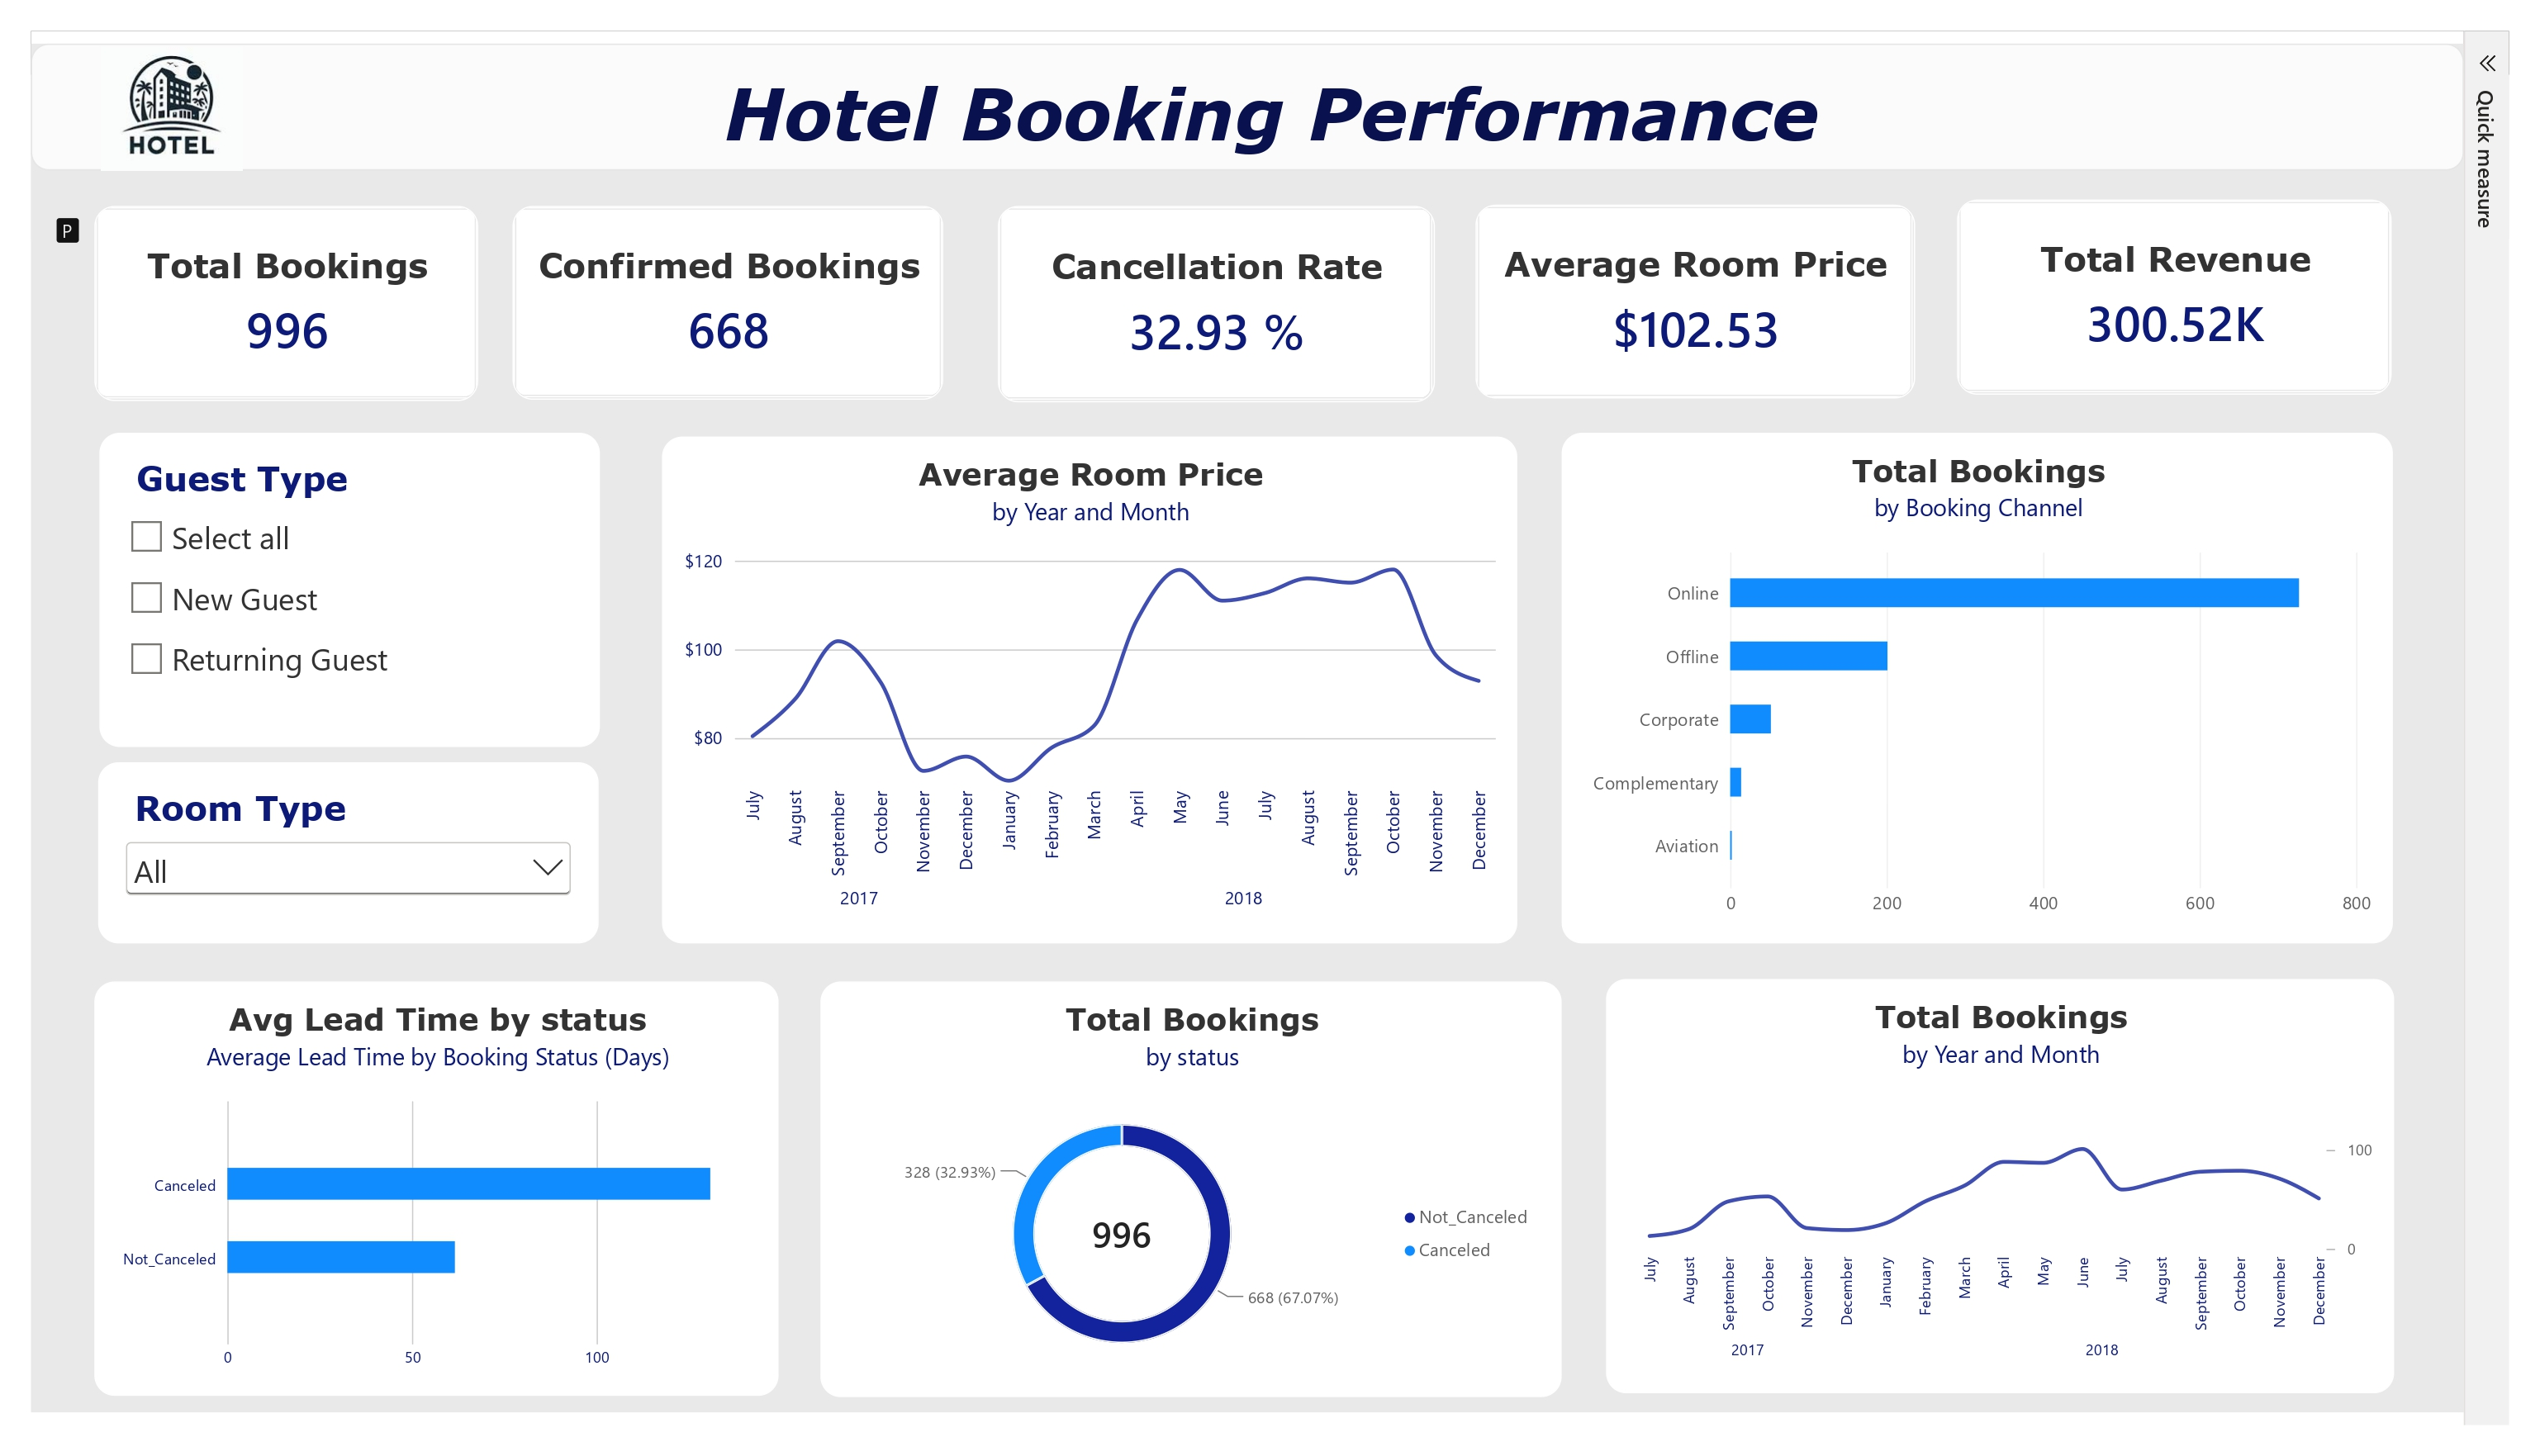

Layout of this report page (visuals, bound fields, positions):
{"tool":"powerbi","page":{"name":"Page ١","canvas":[1920,1080],"ordinal":0},"visuals":[{"type":"cardVisual","fields":{"Data":["Table3.Total Bookings"]},"box":[50,128.3,303.3,153.3],"z":0},{"type":"cardVisual","fields":{"Data":["Table3.Average Room Price"]},"box":[1140,126.7,346.7,153.3],"z":1000},{"type":"cardVisual","fields":{"Data":["Table3.Total Revenue"]},"box":[1520,123.3,343.3,153.3],"z":2000},{"type":"cardVisual","fields":{"Data":["Table3.Confirmed Bookings"]},"box":[380,128.3,340,152.9],"z":3000},{"type":"cardVisual","fields":{"Data":["Table3.Cancellation Rate"]},"box":[763.3,128.3,344.3,154.3],"z":4000},{"type":"lineChart","fields":{"Category":["Table3.arrival_date.Variation.Date Hierarchy.Year","Table3.arrival_date.Variation.Date Hierarchy.Month"],"Y2":["Table3.Total Bookings"]},"box":[1242.5,737.5,622.5,327.5],"z":5000},{"type":"donutChart","fields":{"Category":["Table3.status"],"Y":["Table3.Total Bookings"]},"box":[622.5,740,585,327.5],"z":6000},{"type":"clusteredBarChart","title":"Total Bookings","fields":{"Category":["Table3.market_segment"],"Y":["Table3.Total Bookings"]},"box":[1207.8,306.7,656.7,403.3],"z":7000},{"type":"clusteredBarChart","fields":{"Category":["Table3.status"],"Y":["Table3.Avg Lead Time"]},"box":[50,740,540,326.7],"z":8000},{"type":"slicer","fields":{"Values":["Table3.Room Category"]},"box":[53.3,566.7,394.4,143.4],"z":9000},{"type":"slicer","fields":{"Values":["Table3.Guest Type"]},"box":[54.4,306.7,394.4,248],"z":10000},{"type":"textbox","box":[0,0,1920,100],"z":11000},{"type":"lineChart","fields":{"Category":["Table3.arrival_date.Variation.Date Hierarchy.Year","Table3.arrival_date.Variation.Date Hierarchy.Month"],"Y":["Table3.Average Room Price"]},"box":[497.5,310,675,400],"z":12000},{"type":"image","box":[20,3.3,181.7,96.7],"z":13000}]}

Visuals, with their boxes on the page's 1920x1080 design canvas (x1, y1, x2, y2). These are canvas units, not pixel positions in the 2540x1456 screenshot, which may show the page scaled, cropped or inside an application window:
cardVisual - Table3.Total Bookings: pyautogui.locateOnScreen(50, 128, 353, 282)
cardVisual - Table3.Average Room Price: pyautogui.locateOnScreen(1140, 127, 1487, 280)
cardVisual - Table3.Total Revenue: pyautogui.locateOnScreen(1520, 123, 1863, 277)
cardVisual - Table3.Confirmed Bookings: pyautogui.locateOnScreen(380, 128, 720, 281)
cardVisual - Table3.Cancellation Rate: pyautogui.locateOnScreen(763, 128, 1108, 283)
lineChart - Table3.arrival_date.Variation.Date Hierarchy.Year x Table3.arrival_date.Variation.Date Hierarchy.Month: pyautogui.locateOnScreen(1242, 738, 1865, 1065)
donutChart - Table3.status x Table3.Total Bookings: pyautogui.locateOnScreen(622, 740, 1208, 1068)
"Total Bookings" clusteredBarChart: pyautogui.locateOnScreen(1208, 307, 1864, 710)
clusteredBarChart - Table3.status x Table3.Avg Lead Time: pyautogui.locateOnScreen(50, 740, 590, 1067)
slicer - Table3.Room Category: pyautogui.locateOnScreen(53, 567, 448, 710)
slicer - Table3.Guest Type: pyautogui.locateOnScreen(54, 307, 449, 555)
textbox: pyautogui.locateOnScreen(0, 0, 1920, 100)
lineChart - Table3.arrival_date.Variation.Date Hierarchy.Year x Table3.arrival_date.Variation.Date Hierarchy.Month: pyautogui.locateOnScreen(498, 310, 1172, 710)
image: pyautogui.locateOnScreen(20, 3, 202, 100)
